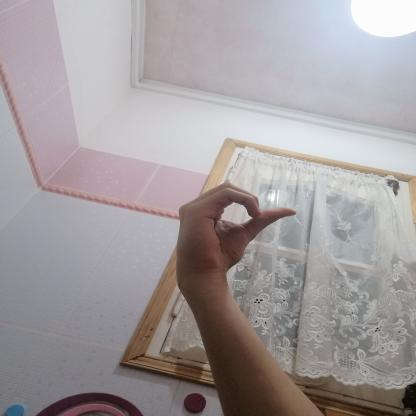WAW: (165, 176, 309, 288)
